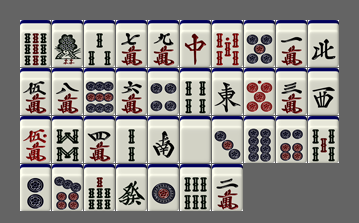0m: (20, 116, 51, 163)
0p: (244, 68, 275, 115)
0s: (212, 20, 243, 67)
1m: (276, 20, 307, 67)
1p: (148, 164, 179, 211)
1s: (52, 20, 83, 67)
1z: (212, 68, 243, 115)
2m: (212, 164, 243, 211)
2p: (20, 164, 51, 211)
2s: (116, 116, 147, 163)
2z: (148, 116, 179, 163)
3m: (276, 68, 307, 115)
3p: (212, 116, 243, 163)
3s: (84, 20, 115, 67)
3z: (308, 68, 339, 115)
4m: (84, 116, 115, 163)
4p: (148, 68, 179, 115)
4s: (180, 68, 211, 115)
4z: (308, 20, 339, 67)
5m: (20, 68, 51, 115)
5p: (244, 20, 275, 67)
5s: (308, 116, 339, 163)
5z: (180, 116, 211, 163)
6m: (116, 68, 147, 115)
6p: (276, 116, 307, 163)
6s: (180, 164, 211, 211)
6z: (116, 164, 147, 211)
7m: (116, 20, 147, 67)
7p: (52, 164, 83, 211)
7s: (84, 164, 115, 211)
7z: (180, 20, 211, 67)
8m: (52, 68, 83, 115)
8p: (244, 116, 275, 163)
8s: (52, 116, 83, 163)
9m: (148, 20, 179, 67)
9p: (84, 68, 115, 115)
9s: (20, 20, 51, 67)
